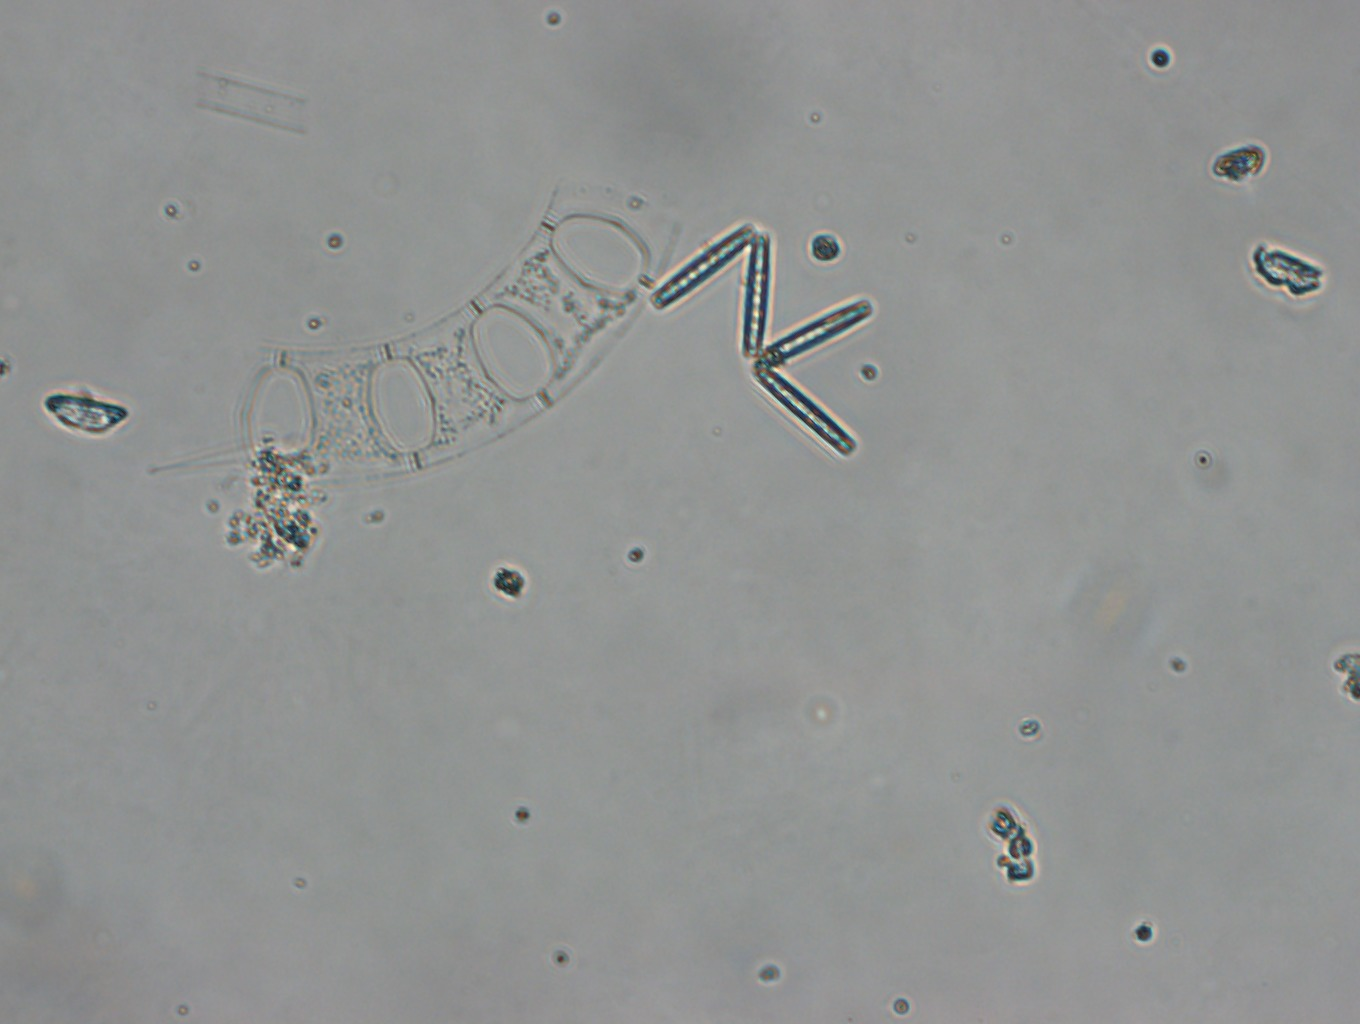eucampia: (231, 185, 677, 492)
thalassionema nitzschioides: (650, 211, 875, 470)
